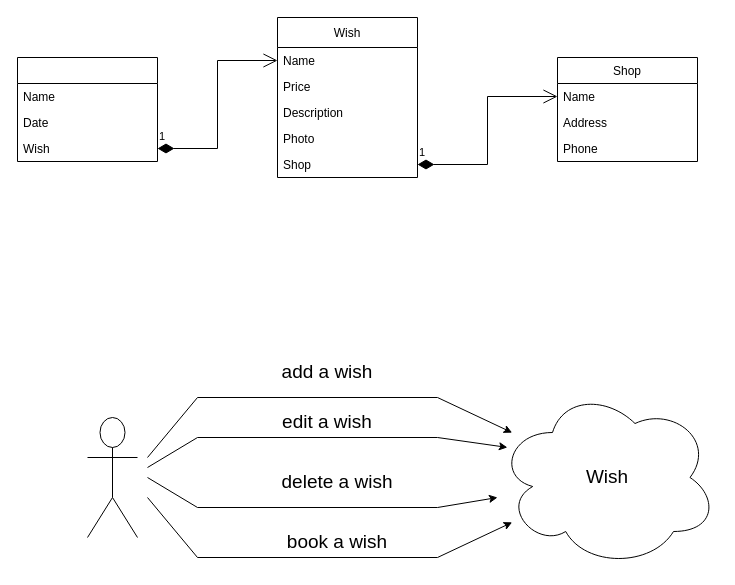
The diagram is 735 pixels wide and 585 high, and some of its shapes have lost their labels. Here are the shapes that lost their labels. From the top down, the box of each, then its label:
(16, 56, 158, 162): User
(86, 416, 138, 538): Actor
